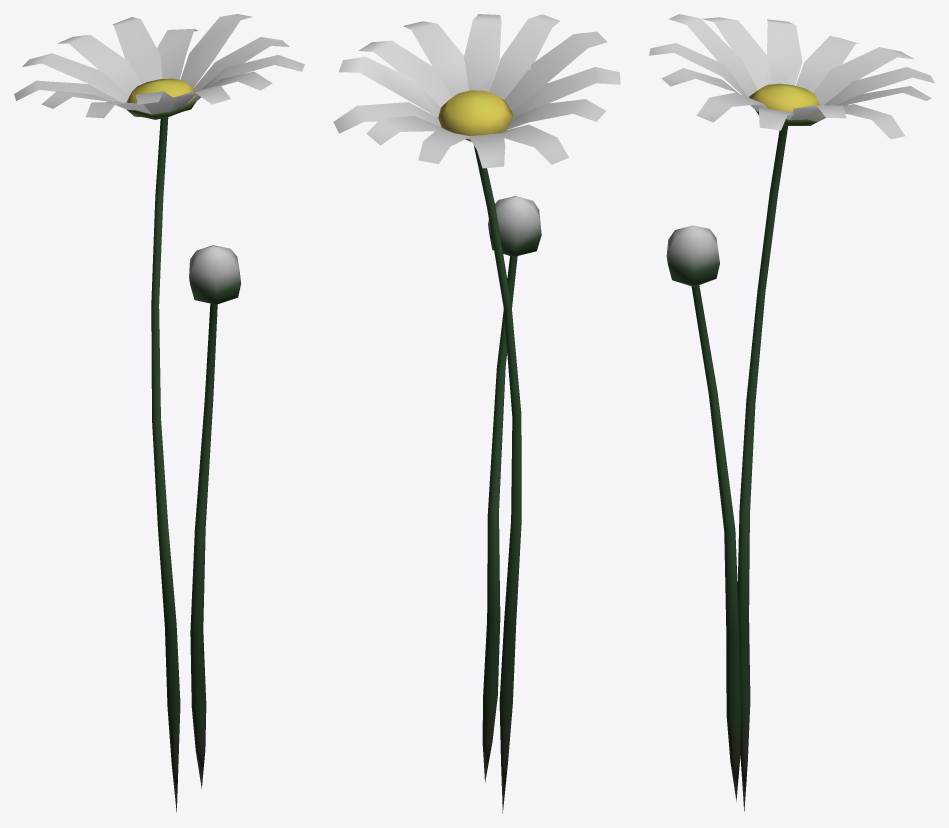
The model's file is plants-flowers-daisy_v6.fbx.
3 renders of one model, left to right at view 1: azimuth 30°, elevation 25°; view 2: azimuth 150°, elevation 25°; view 3: azimuth 270°, elevation 25°, orthographic. The views are drawn at different scales.
Parts seen in each view (by area): view 1: Daisy_v6; view 2: Daisy_v6; view 3: Daisy_v6.
Boxes of the visible parts, bbox=[...] form: Daisy_v6: bbox=[14, 14, 304, 812]; Daisy_v6: bbox=[333, 14, 620, 813]; Daisy_v6: bbox=[649, 14, 934, 811].
Size of the model in its own units: 0.1649 by 0.5 by 0.1687.
